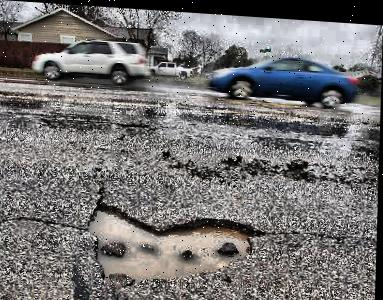pothole: (85, 200, 263, 289), (0, 88, 39, 98)
